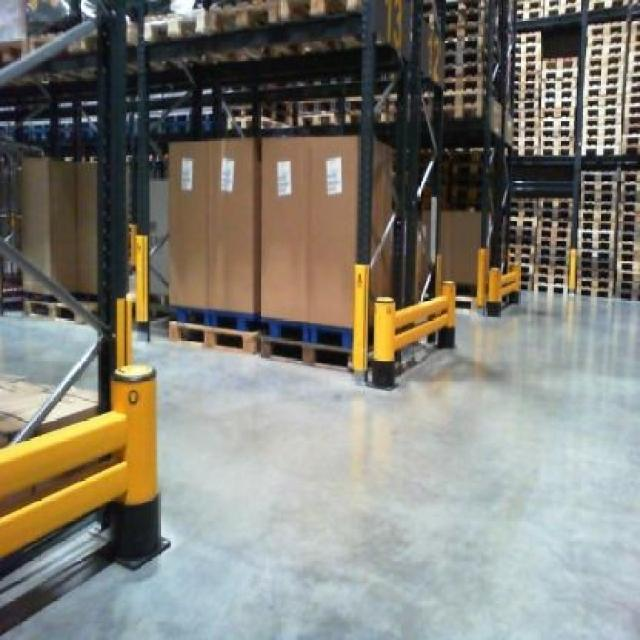floor: (0, 294, 637, 637)
pallets: (168, 134, 452, 385), (168, 135, 257, 326), (174, 323, 255, 348)
